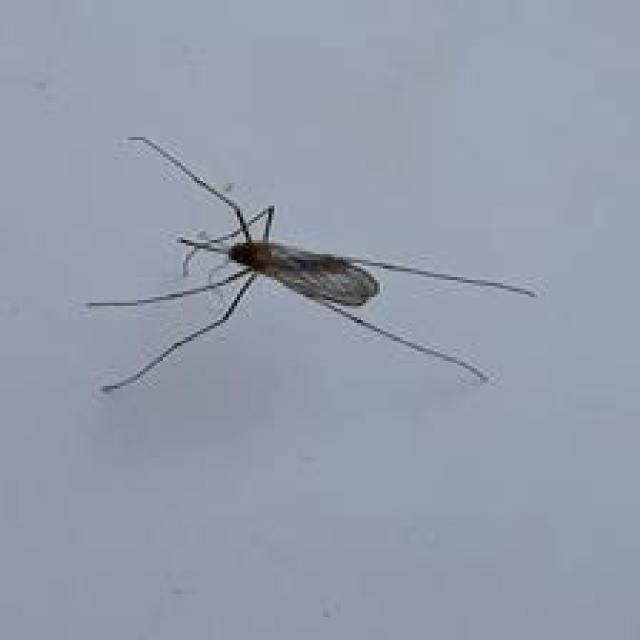Culex: (83, 133, 537, 396)
